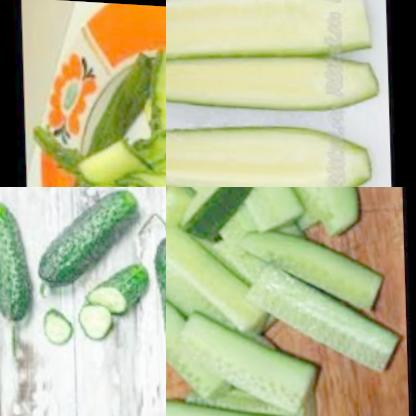cucumber: (166, 187, 374, 416), (166, 41, 384, 110), (166, 113, 368, 187), (12, 187, 137, 306), (77, 125, 166, 187), (0, 191, 35, 344), (84, 259, 152, 313), (69, 281, 117, 349), (145, 225, 166, 368), (138, 44, 166, 148), (40, 299, 80, 356)
